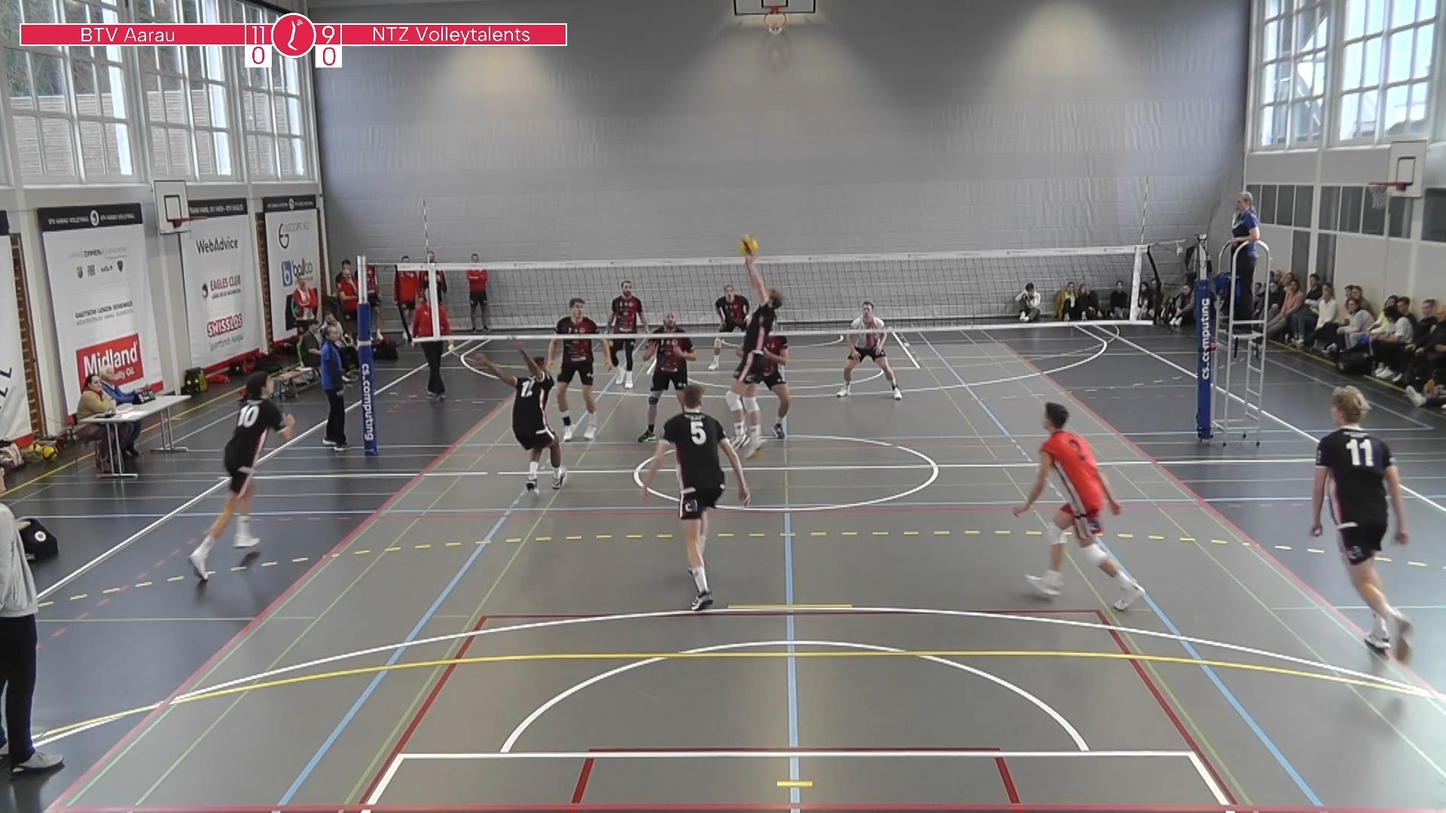alzata: (725, 255, 793, 459)
